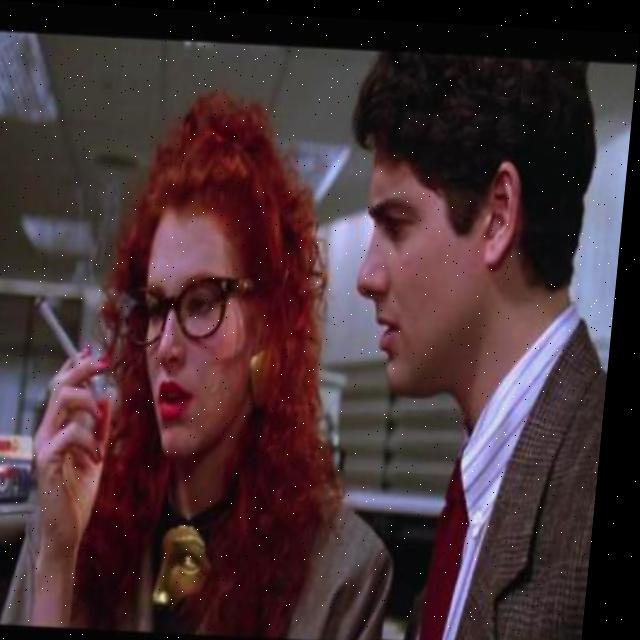cigarette: (39, 292, 94, 369)
